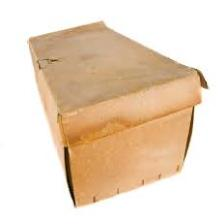cardboard: (15, 19, 209, 204)
